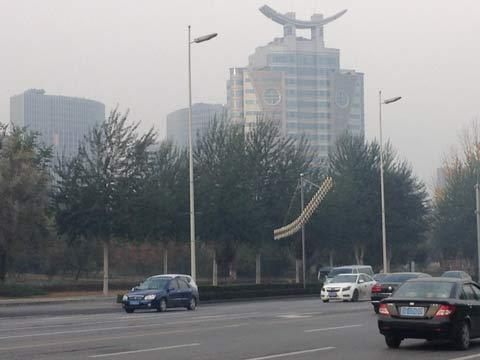car: (377, 276, 480, 350), (371, 270, 446, 316), (121, 276, 199, 311), (132, 274, 198, 309), (318, 271, 381, 303), (324, 265, 375, 294), (435, 267, 473, 295)
